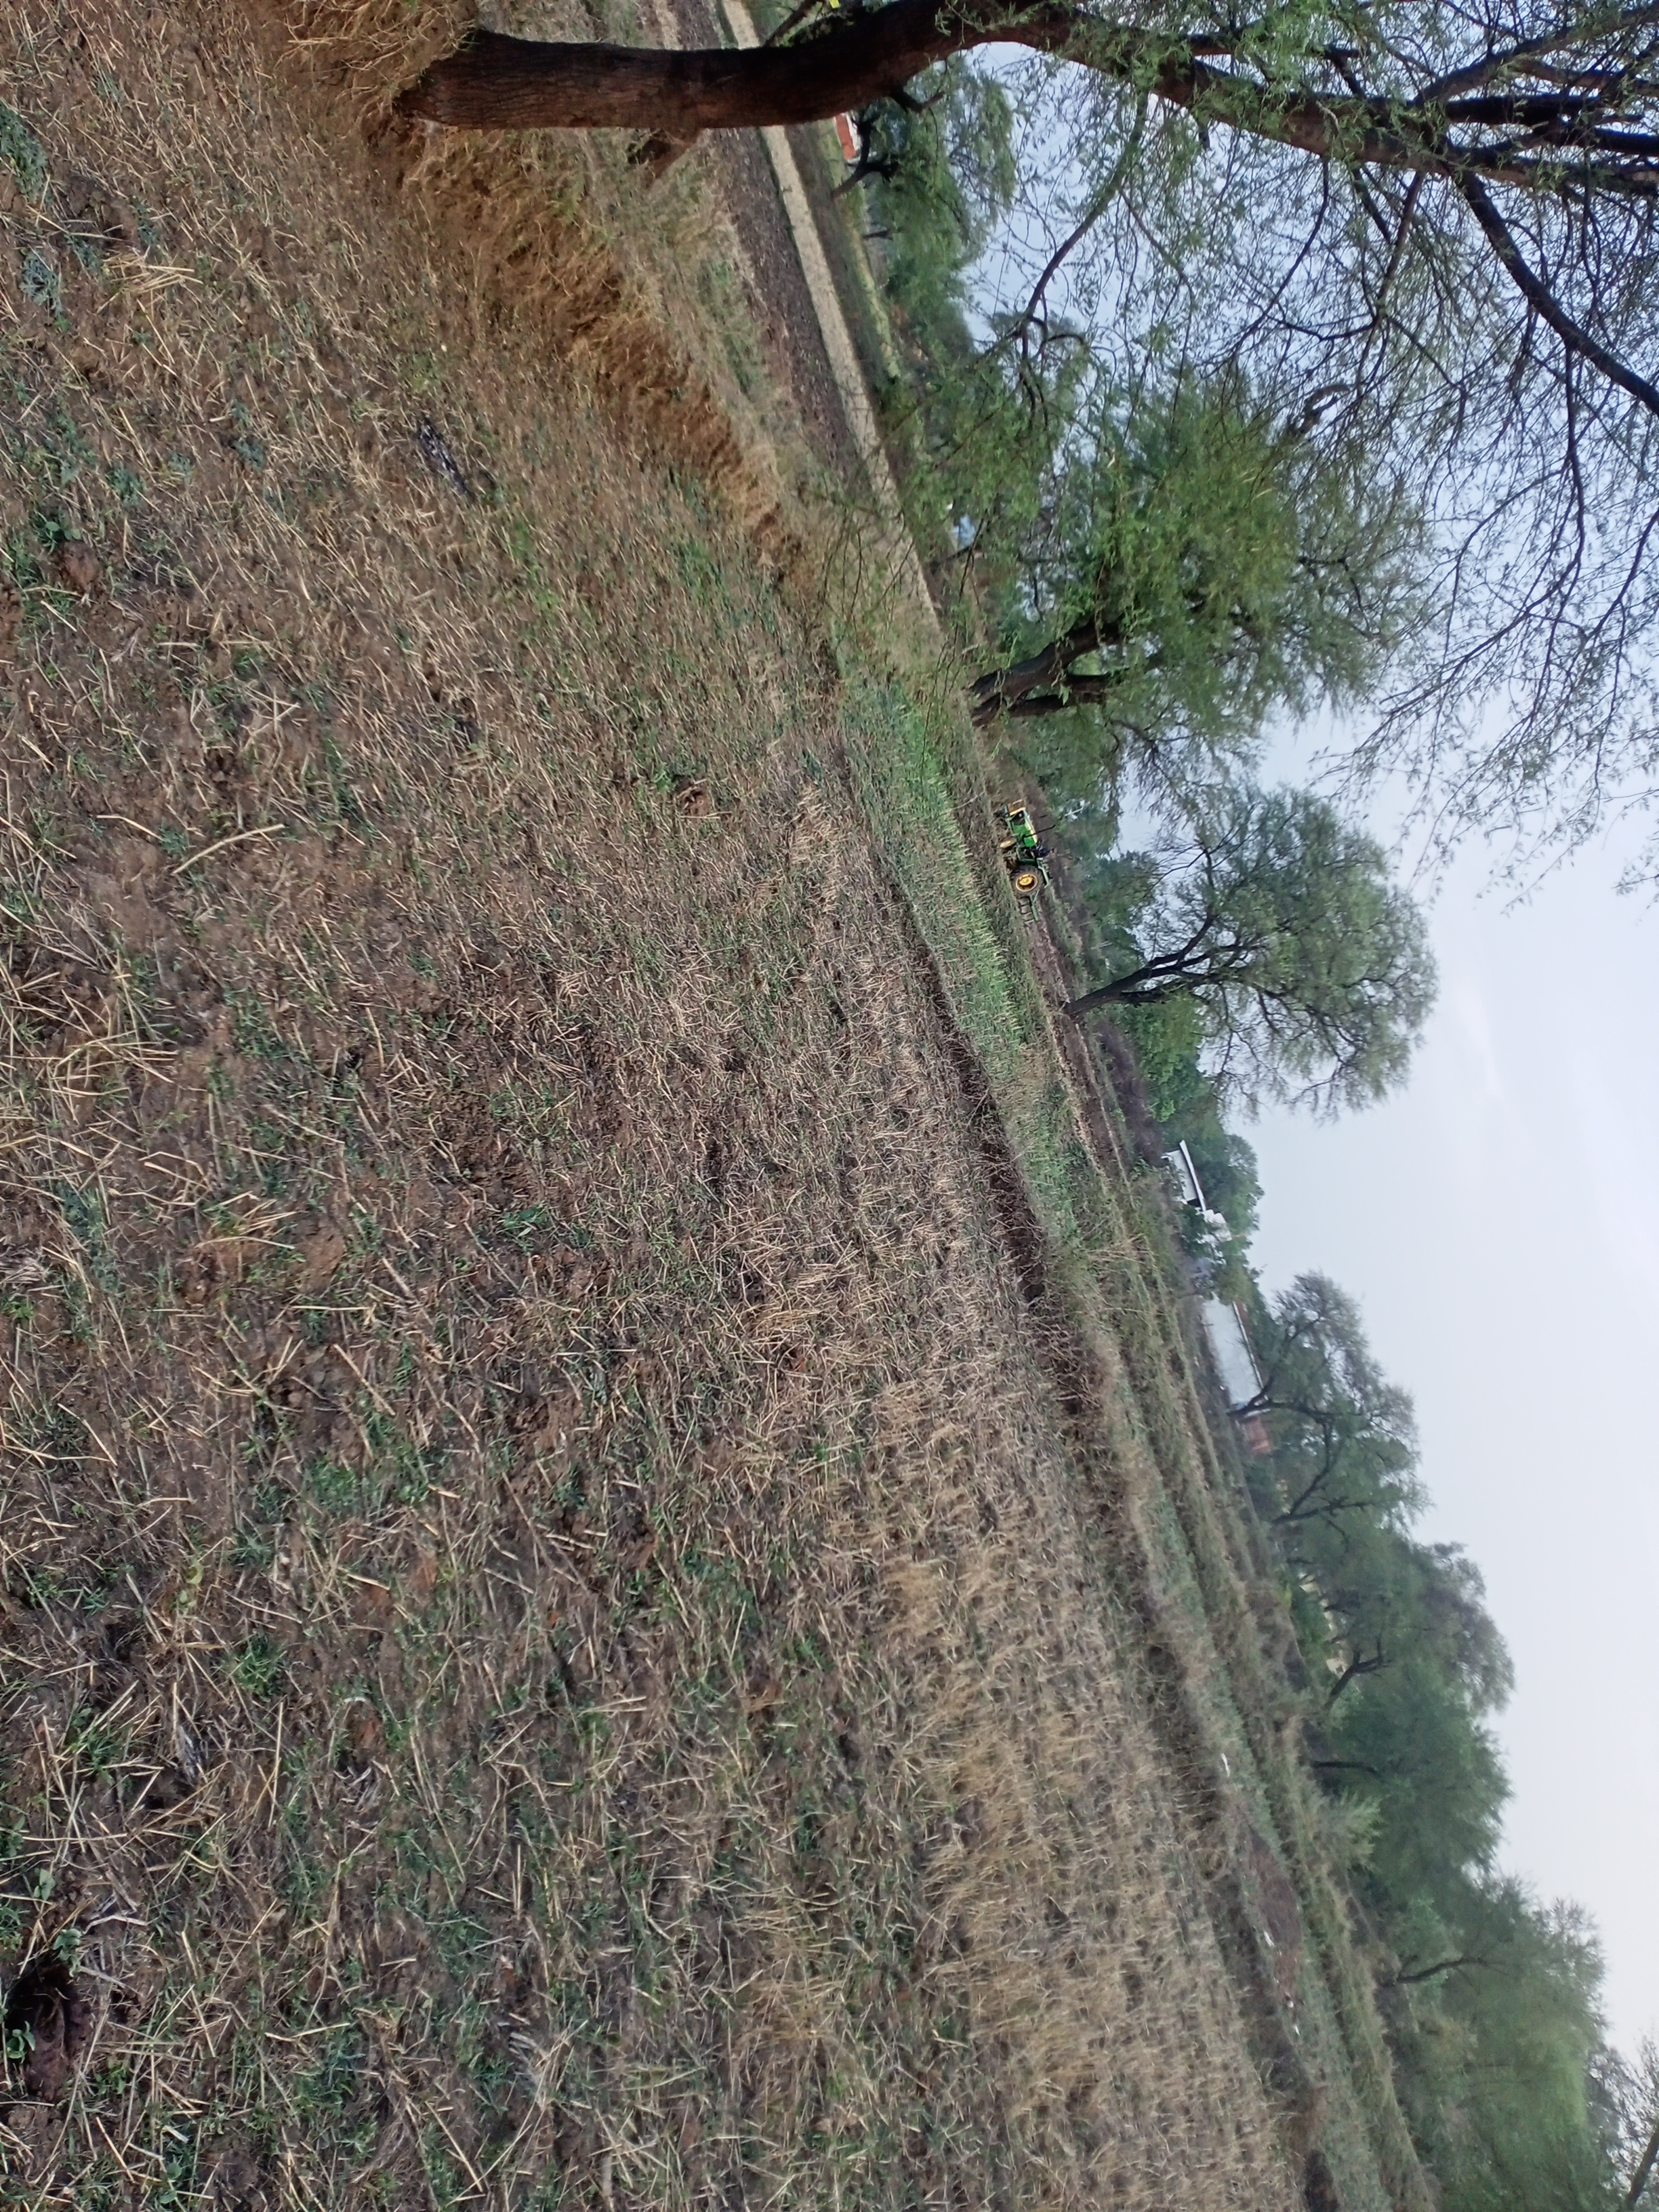tractor: (990, 796, 1058, 923)
